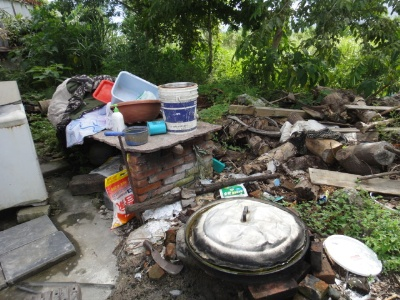bowl: (184, 197, 313, 279), (109, 99, 164, 126), (122, 126, 149, 145)
box: (111, 67, 163, 105)
bucket: (155, 80, 200, 135)
plate: (324, 232, 384, 280)
